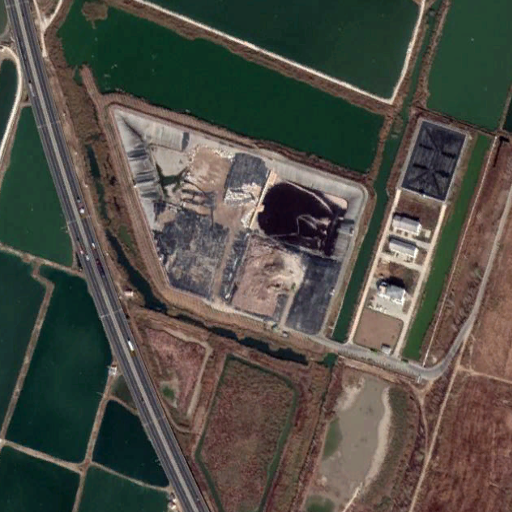lf: (109, 102, 372, 337)
